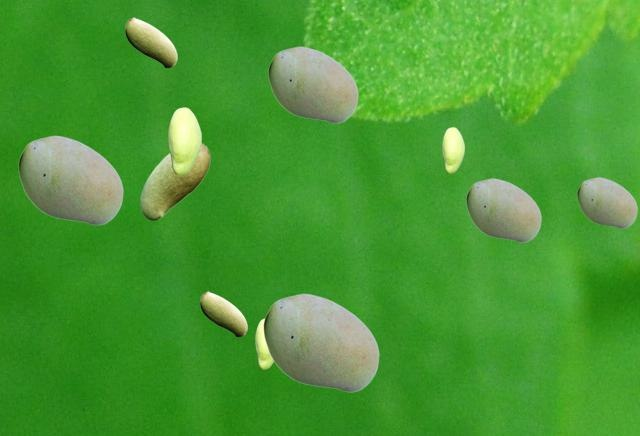green_mango: (263, 293, 378, 391), (18, 135, 122, 224), (268, 46, 357, 122), (140, 142, 209, 219), (466, 178, 540, 241), (577, 177, 636, 227), (125, 17, 176, 67), (168, 107, 200, 174), (200, 291, 246, 336), (442, 127, 463, 172), (255, 318, 273, 368)
